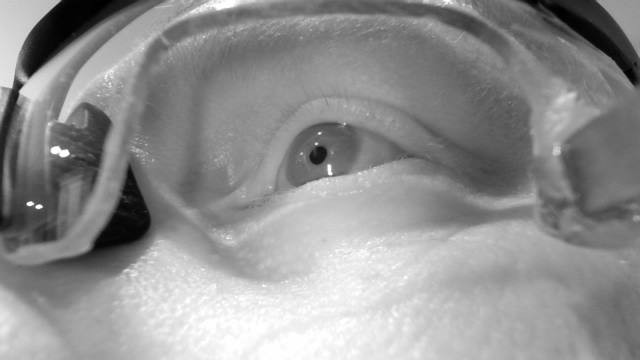pupil: (309, 146, 328, 165)
